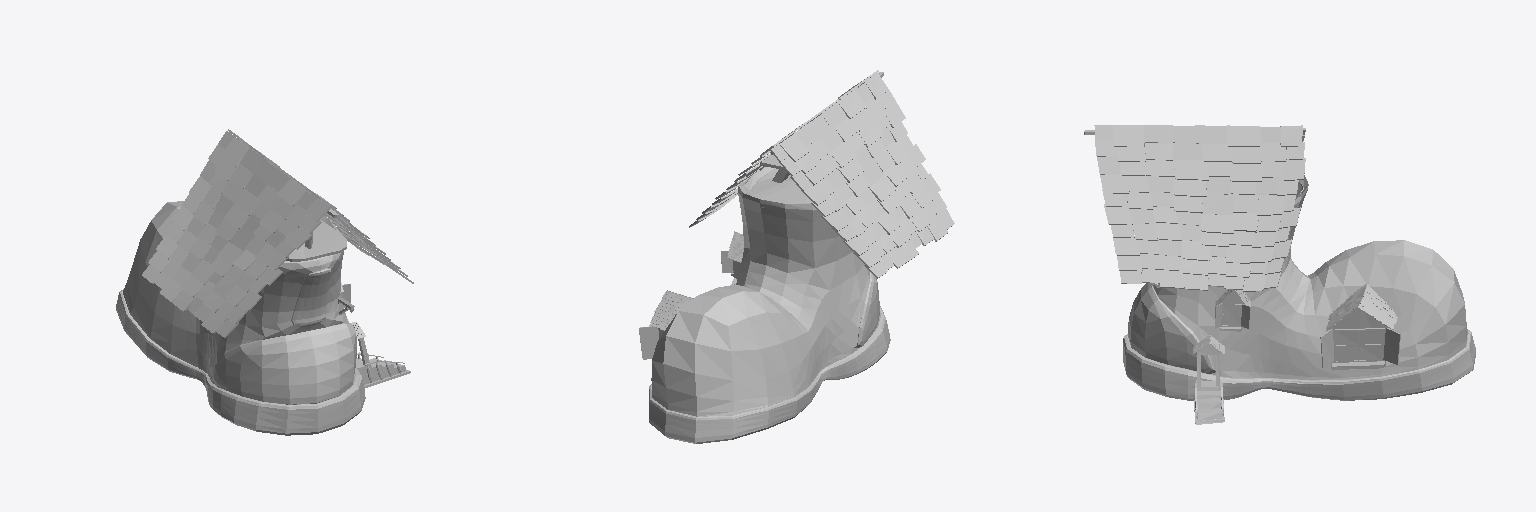
File: ShoesHouse.obj
3 renders of one model, left to right at view 1: azimuth 30°, elevation 25°; view 2: azimuth 150°, elevation 25°; view 3: azimuth 270°, elevation 25°, orthographic.
Parts seen in each view (by area): view 1: boots_01.001, Cube.021_Cube.261, Cube.065, Plane_Plane.002, Cube.003_Cube.007; view 2: boots_01.001, Cube.021_Cube.261, Cube.065, Plane_Plane.002, Cube.025_Cube.022; view 3: boots_01.001, Cube.065, Cube.010_Cube.009, Cube.007_Cube.001, Cube.003_Cube.007, Cube.025_Cube.022, Cube.026_Cube.023.
Boxes of the visible parts, <box> form: boots_01.001: <box>116,201,365,435</box>; Cube.021_Cube.261: <box>142,131,330,337</box>; Cube.065: <box>228,129,413,283</box>; Plane_Plane.002: <box>286,220,346,261</box>; Cube.003_Cube.007: <box>356,358,406,384</box>; boots_01.001: <box>649,167,890,443</box>; Cube.021_Cube.261: <box>770,72,954,278</box>; Cube.065: <box>689,70,878,227</box>; Plane_Plane.002: <box>750,168,811,203</box>; Cube.025_Cube.022: <box>649,291,692,330</box>; boots_01.001: <box>1123,169,1475,400</box>; Cube.065: <box>1094,125,1305,291</box>; Cube.010_Cube.009: <box>1336,328,1382,360</box>; Cube.007_Cube.001: <box>1330,308,1388,370</box>; Cube.003_Cube.007: <box>1196,380,1221,420</box>; Cube.025_Cube.022: <box>1358,284,1397,329</box>; Cube.026_Cube.023: <box>1326,284,1366,330</box>.
Size of the model in its own units: 44.16 by 45.66 by 66.18.